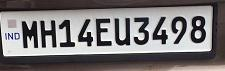1: (57, 18, 76, 48)
3: (132, 15, 149, 46)
4: (150, 15, 169, 44), (76, 18, 94, 46)
8: (189, 14, 207, 44)
9: (170, 15, 187, 45)
E: (93, 16, 112, 46)
H: (38, 19, 57, 47)
M: (19, 18, 39, 48)
U: (113, 16, 131, 45)
